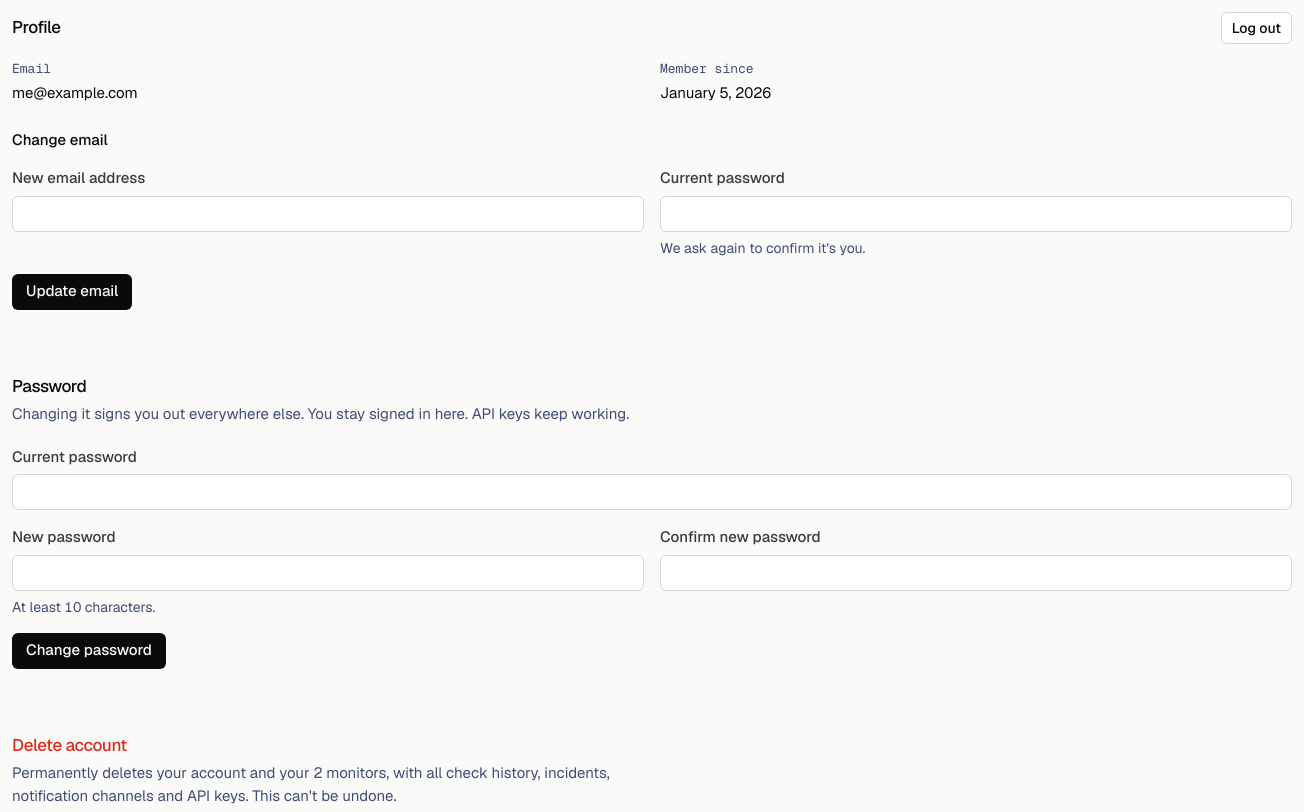
Test: Account settings › submits a password change and tells the user other devices are signed out
Type "old-password-1" into the 2nd password field labelled "Current password" at (652, 492), box [12,474,1292,510]
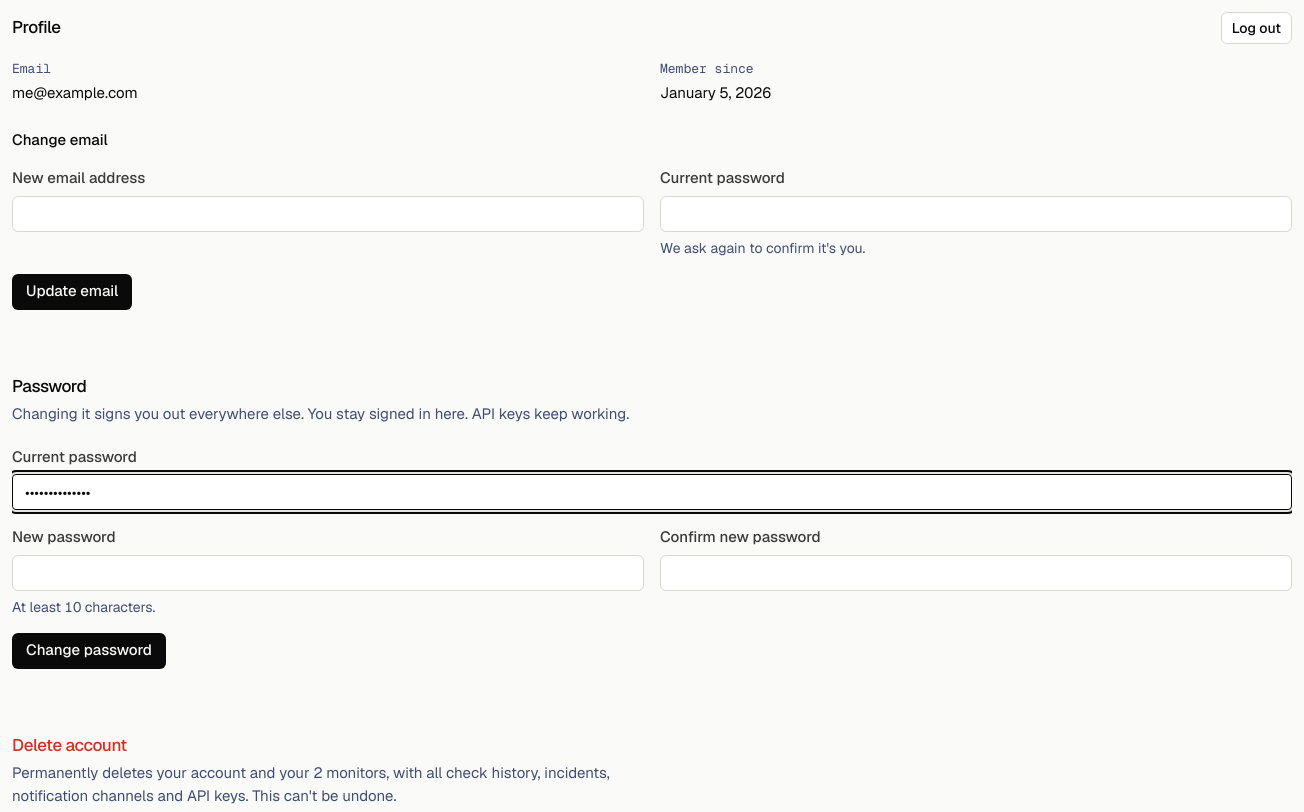
Type "brand-new-password" into the password field labelled "New password" at (328, 572), box [12,554,644,590]
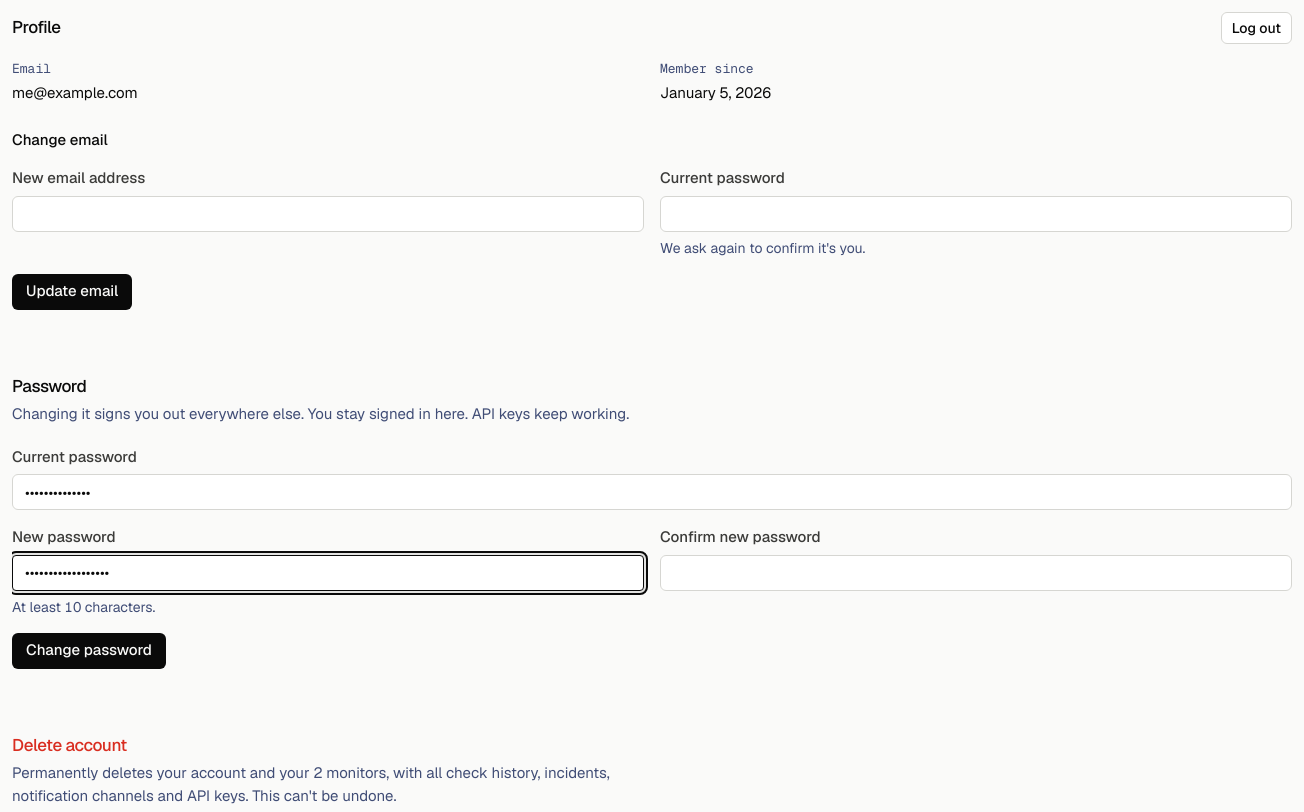
Type "brand-new-password" into the password field labelled "Confirm new password" at (976, 572), box [660,554,1292,590]
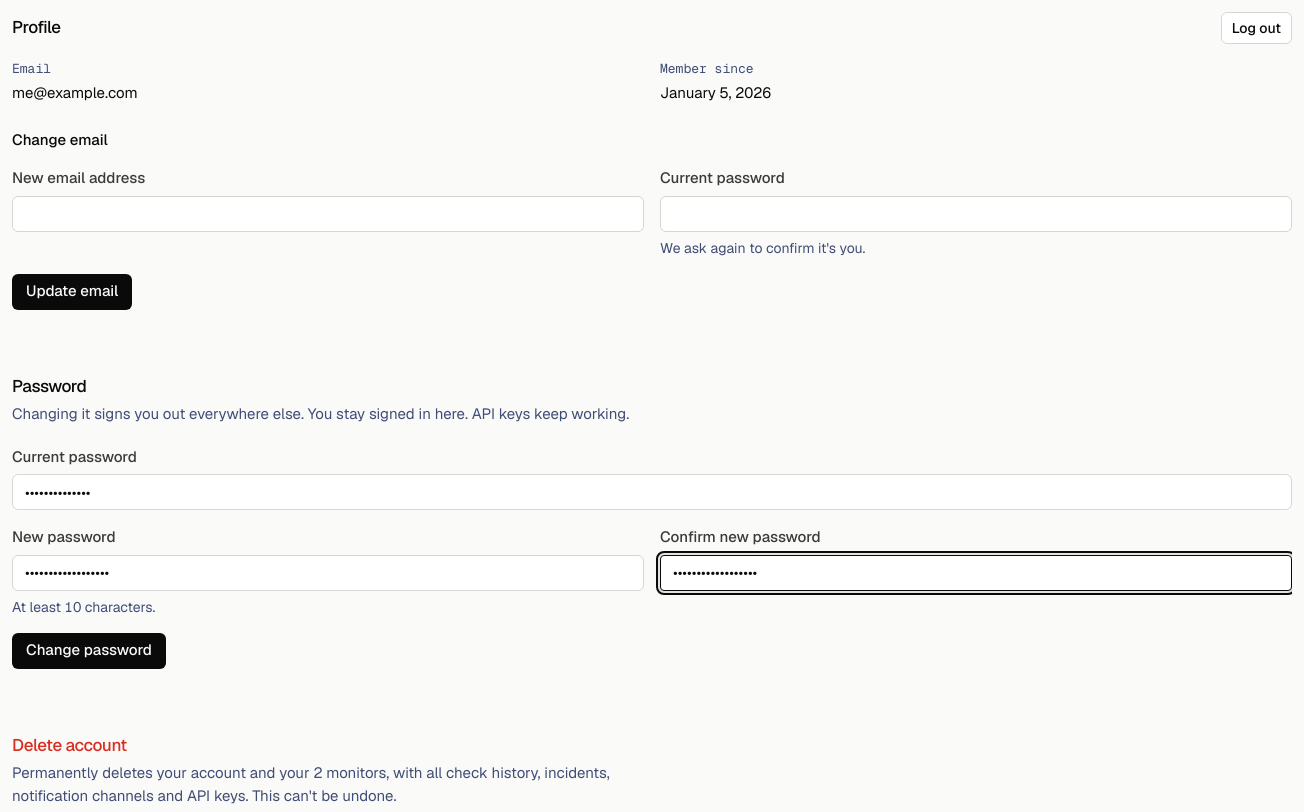
Click the button "Change password" at (89, 650), box [12,632,166,668]
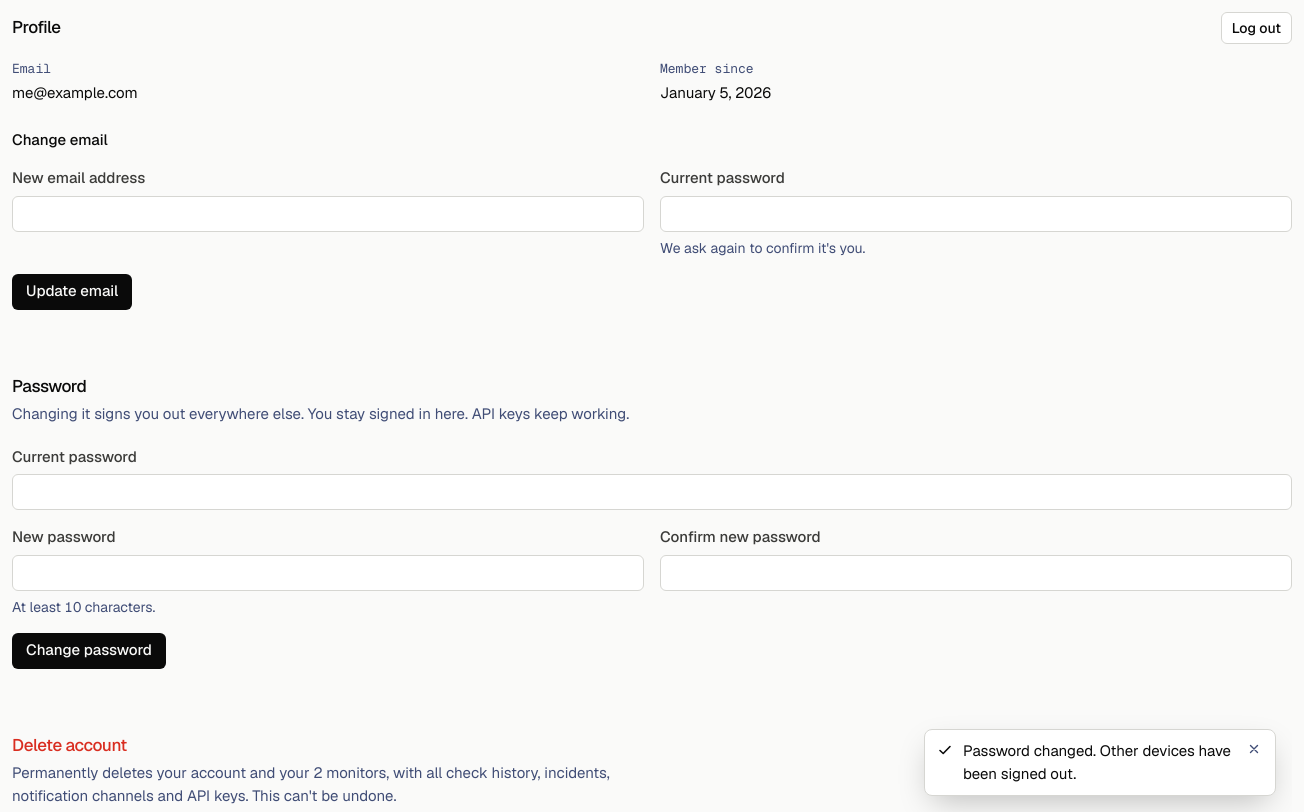
Now the text "Password changed. Other devices have been signed out." is shown, box [963,740,1235,785]
